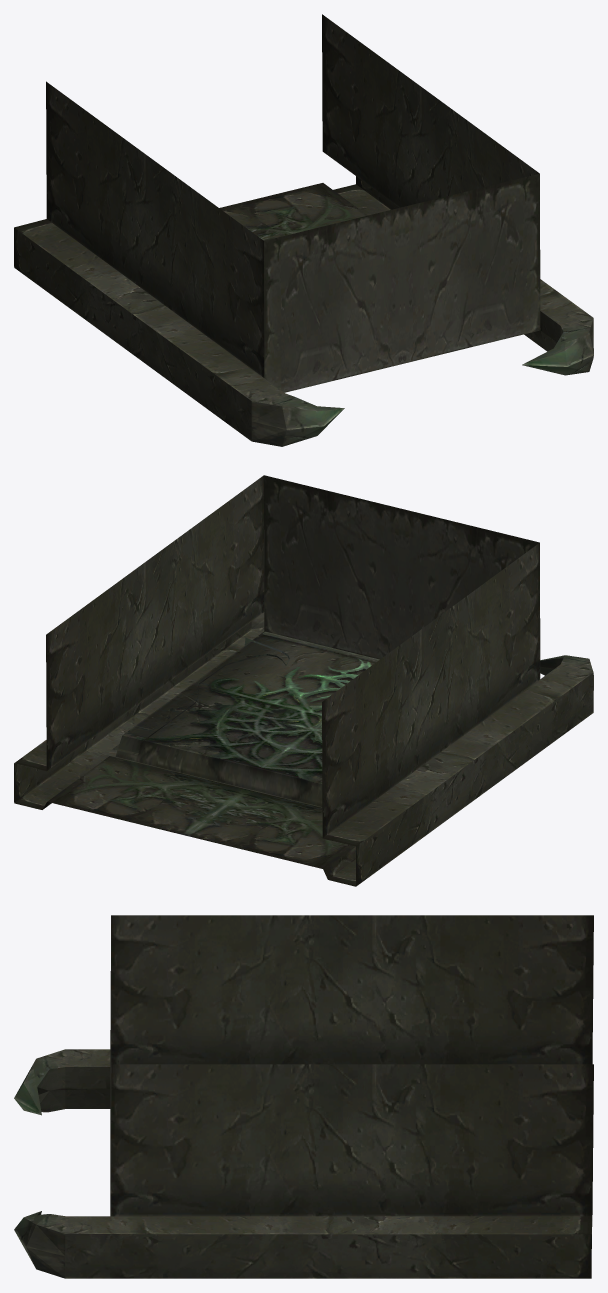
File: aiji_fuben_229_wall01.obj
3 renders of one model, top to bottom at view 1: azimuth 30°, elevation 25°; view 2: azimuth 150°, elevation 25°; view 3: azimuth 270°, elevation 25°, orthographic. The views are drawn at different scales.
Visible parts, largest first — view 1: aiji_fuben_229_wall01; view 2: aiji_fuben_229_wall01; view 3: aiji_fuben_229_wall01.
Boxes of the visible parts, x1,y1,x2,y2 form: aiji_fuben_229_wall01: (14, 14, 593, 446); aiji_fuben_229_wall01: (14, 475, 593, 886); aiji_fuben_229_wall01: (14, 915, 593, 1278).
Size of the model in its own units: 258 by 128 by 342.
Materials: 1 (1 with a texture image).
